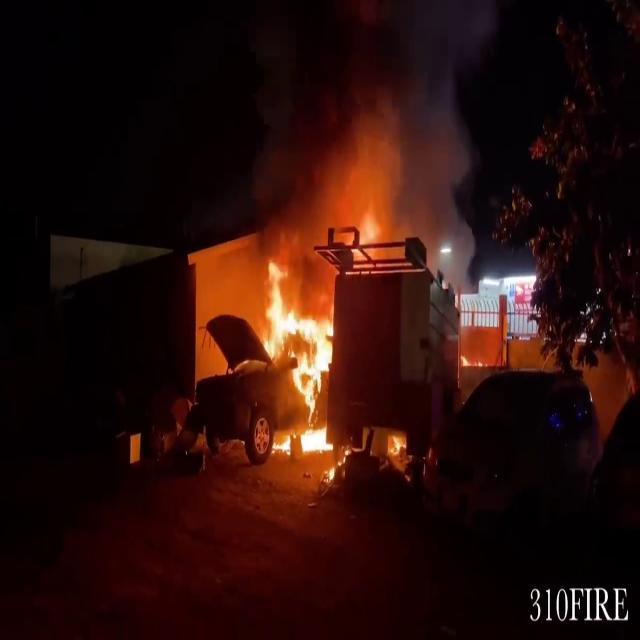Fire: (258, 258, 344, 457)
Smoke: (245, 13, 484, 258)
